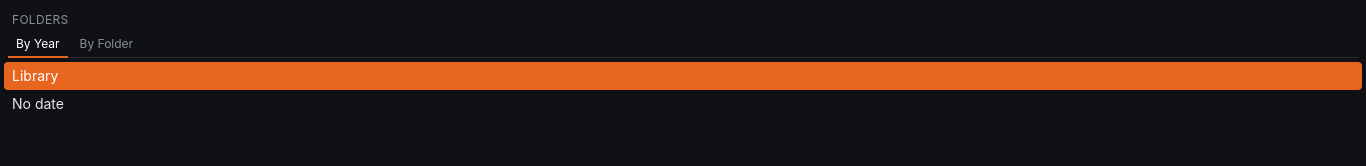
Test: FoldersSection › shows By Year tab by default and switches to By Folder
Click the tab "By Folder". click: (106, 45)
box: [72, 32, 141, 58]
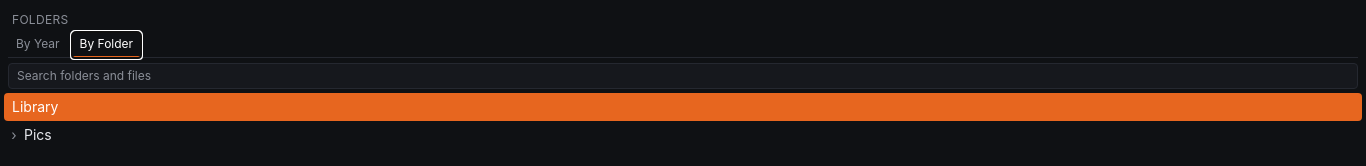
Expected: the button "Pics" is shown, [24, 121, 1362, 149]
Expected: the search field is shown, [8, 63, 1358, 89]
